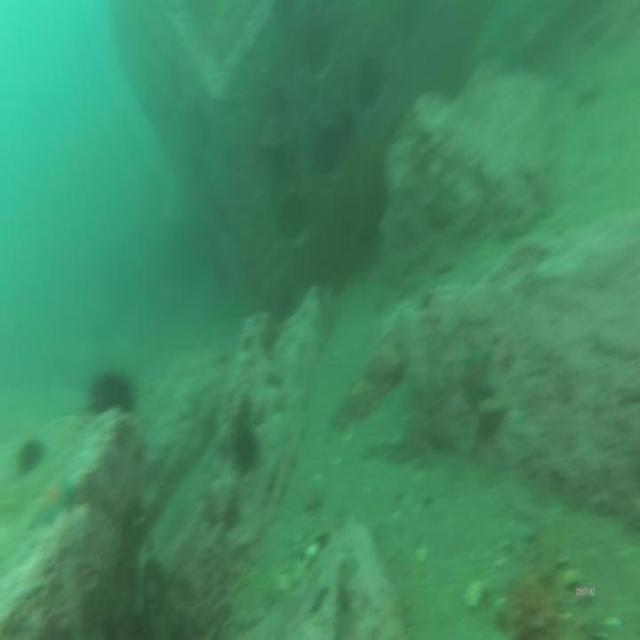echinus: (90, 368, 135, 425), (233, 414, 260, 476), (18, 435, 46, 477)
starfish: (29, 477, 80, 531)
